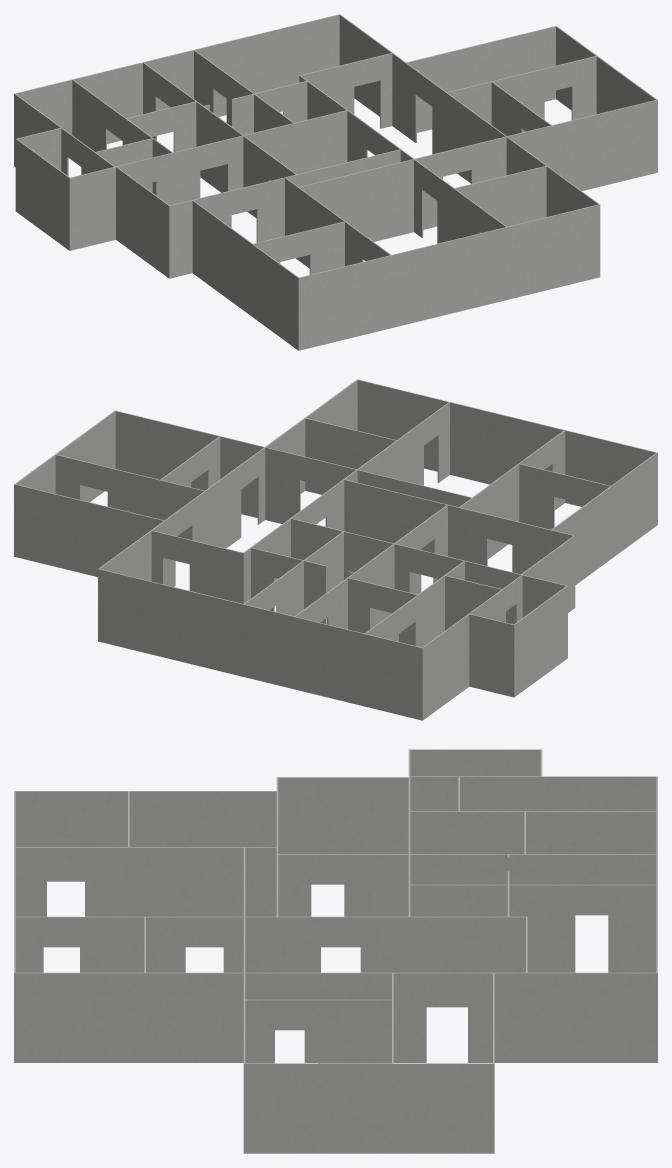
Rendered from Level4Walls.fbx.
3 renders of one model, top to bottom at view 1: azimuth 30°, elevation 25°; view 2: azimuth 150°, elevation 25°; view 3: azimuth 270°, elevation 25°, orthographic. The views are drawn at different scales.
Visible parts, largest first — view 1: Level4Walls; view 2: Level4Walls; view 3: Level4Walls.
Boxes of the visible parts, x1,y1,x2,y2 form: Level4Walls: (14,14,657,350); Level4Walls: (14,379,657,720); Level4Walls: (14,749,657,1153).
Size of the model in its own units: 22.55 by 3 by 19.5.
